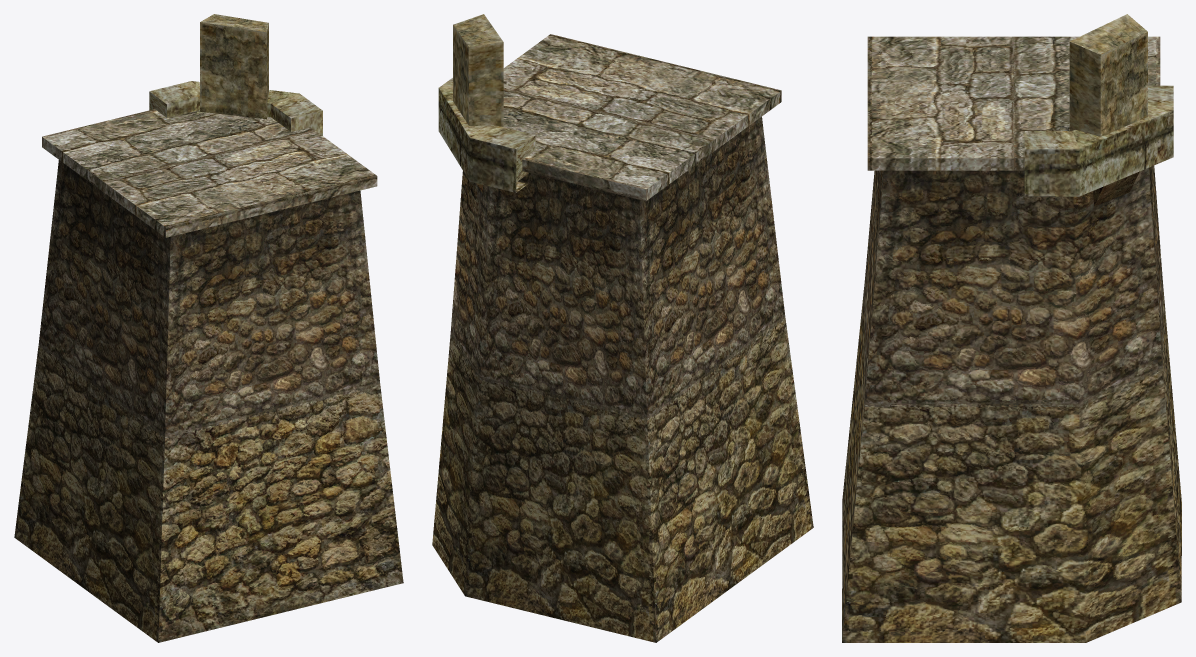
The model's file is hrz94.glb.
3 renders of one model, left to right at view 1: azimuth 30°, elevation 25°; view 2: azimuth 150°, elevation 25°; view 3: azimuth 270°, elevation 25°, orthographic. The views are drawn at different scales.
Parts seen in each view (by area): view 1: hrz94-col; view 2: hrz94-col; view 3: hrz94-col.
Part boxes in pixels (x1,y1,x2,y2): hrz94-col: (14,14,403,642); hrz94-col: (432,14,813,642); hrz94-col: (842,14,1181,642).
Size of the model in its own units: 5.23 by 10.04 by 5.32.
Materials: 7 (7 with a texture image).
